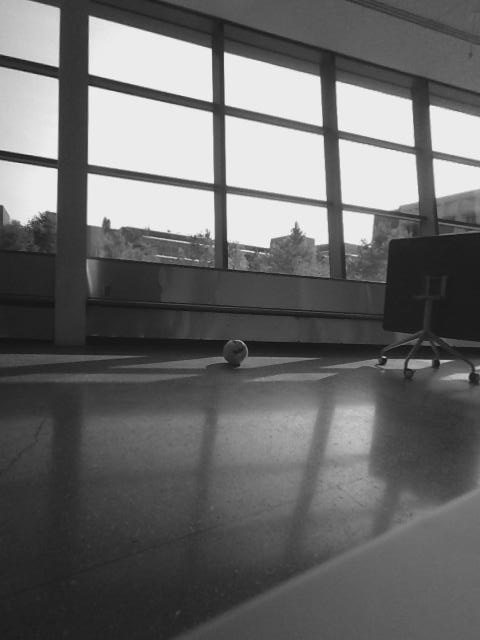ball: (219, 335, 250, 367)
